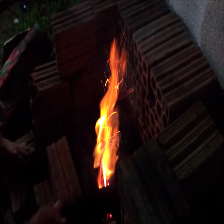fire_h: (94, 38, 126, 188)
fire_l: (106, 212, 112, 218)
